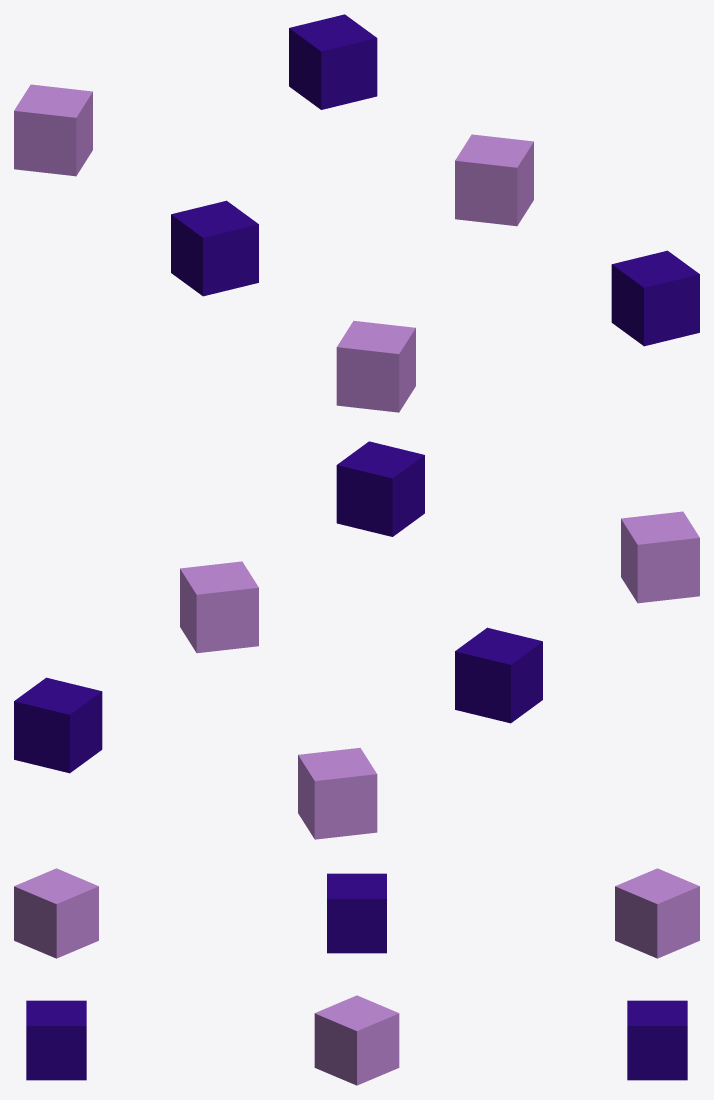
The model's file is framing_02.glb.
The picture shows the model from 3 angles, top to bottom: view 1: azimuth 30°, elevation 25°; view 2: azimuth 150°, elevation 25°; view 3: azimuth 270°, elevation 25°; orthographic projection. The views are drawn at different scales.
Parts seen in each view (by area): view 1: GEO.Cubes.001; view 2: GEO.Cubes.001; view 3: GEO.Cubes.001.
Part boxes in pixels (<box>): GEO.Cubes.001: <box>14,14,699,412</box>; GEO.Cubes.001: <box>14,441,699,839</box>; GEO.Cubes.001: <box>14,868,699,1085</box>.
Size of what is drawn, in the model's own units: 1.28 by 0.2 by 2.28.
